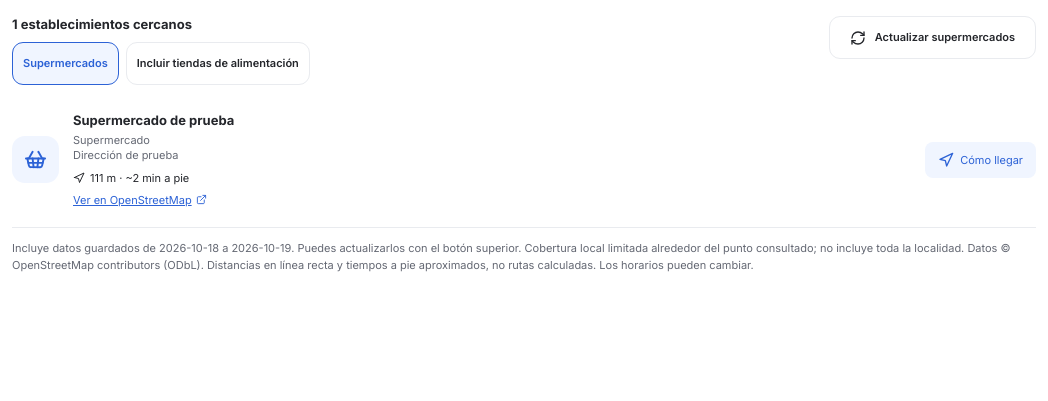
it: Lista de supermercados › separa supermercados de tiendas y mantiene origen y fechas en enlaces y atribución
Expected: the heading "Supermercado de prueba" is shown, [73,112,234,128]
Expected: the text "Tienda de prueba" is not shown
Click the button "Incluir tiendas de alimentación" at (218, 64), box [126,42,310,85]
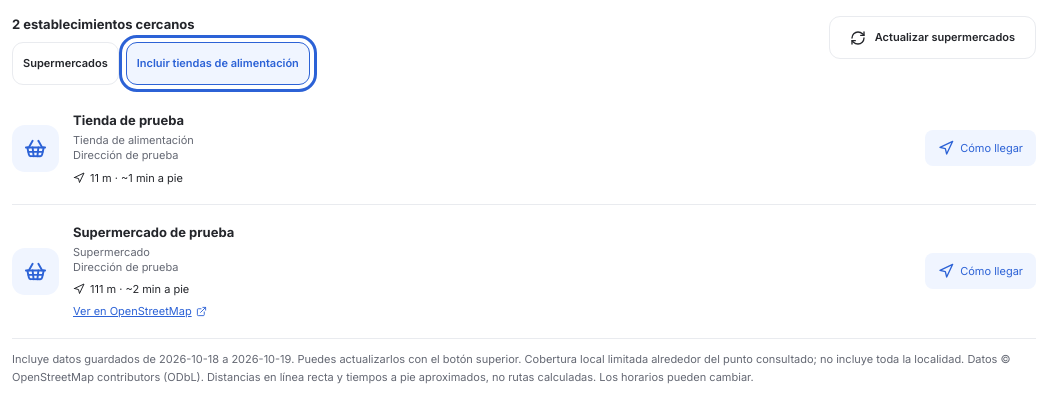
Result: the headings read "Tienda de prueba", "Supermercado de prueba", in this order at [73,112,184,128]; [73,224,234,240]
